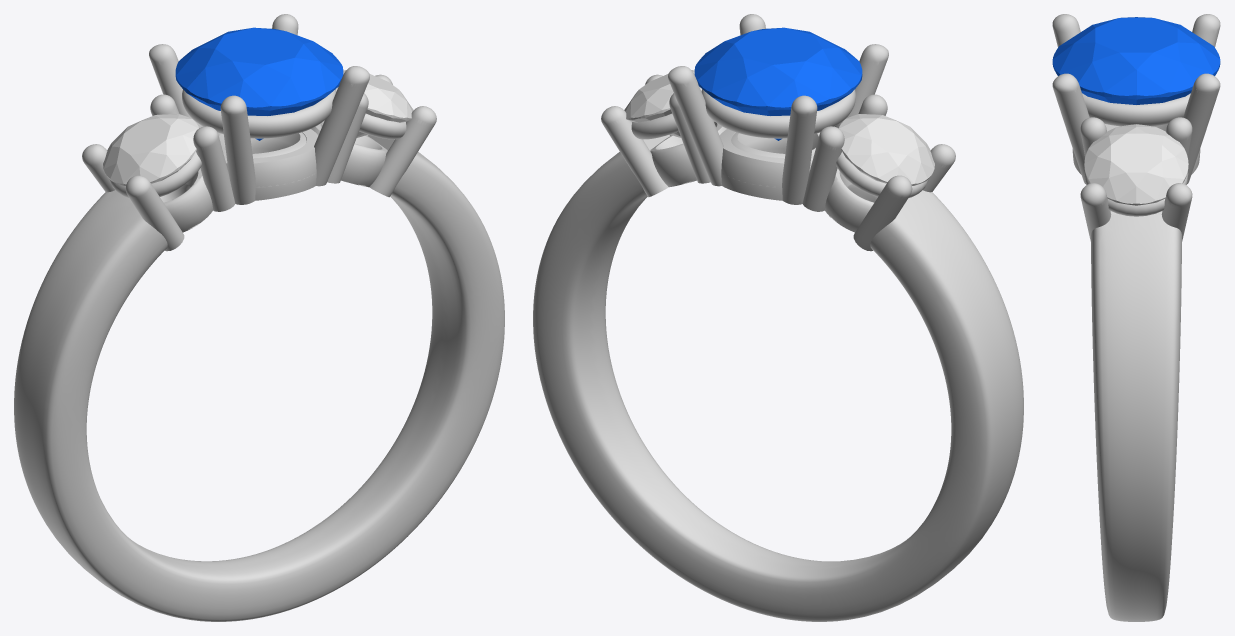
Rendered from bluesapphire-round-platinum-4prong-straighttaperedband-2stone.glb.
3 views of the same model, side by side, from view 1: azimuth 30°, elevation 25°; view 2: azimuth 150°, elevation 25°; view 3: azimuth 270°, elevation 25° (orthographic).
Parts seen in each view (by area): view 1: metal, stone, side.001, side; view 2: metal, stone, side.001, side; view 3: metal, stone, side.
Boxes of the visible parts, <box> form: metal: <box>14,14,504,621</box>; stone: <box>175,27,343,140</box>; side.001: <box>103,114,198,185</box>; side: <box>336,70,413,137</box>; metal: <box>533,14,1023,621</box>; stone: <box>694,27,862,140</box>; side.001: <box>838,114,934,185</box>; side: <box>624,70,701,137</box>; metal: <box>1052,14,1220,621</box>; stone: <box>1052,17,1220,104</box>; side: <box>1084,124,1188,205</box>.
Bounding box in the file's own units: 20.5 × 23.81 × 6.45.
